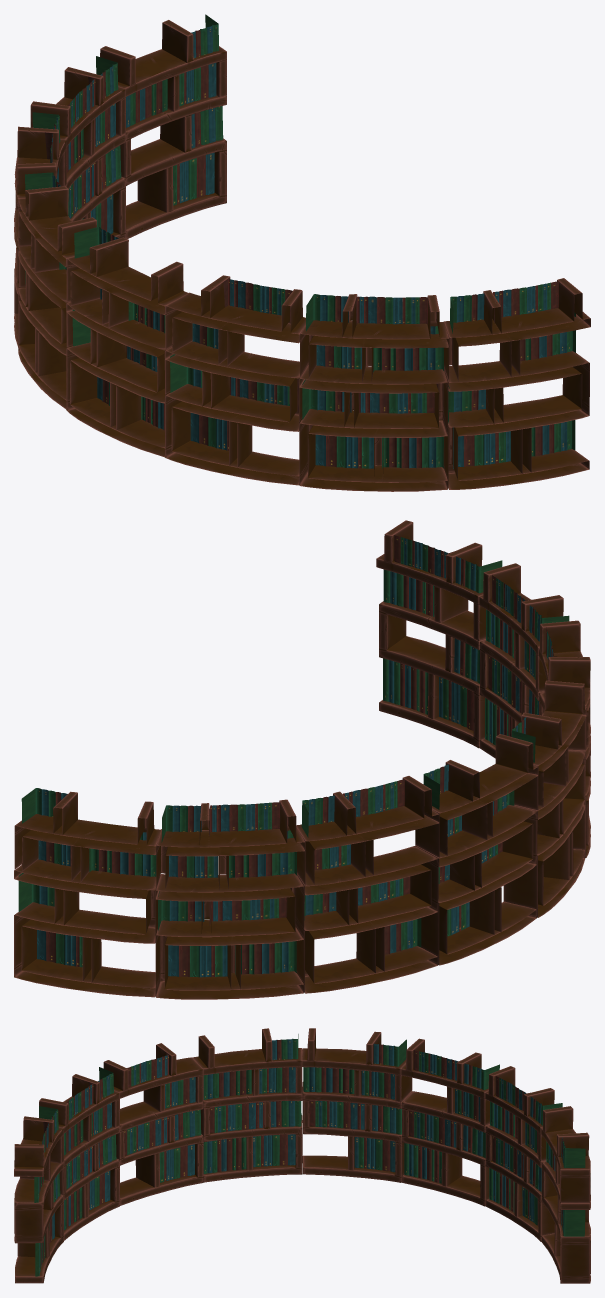
Rendered from SM_BookShelf_01_Full.fbx.
The picture shows the model from 3 angles, top to bottom: view 1: azimuth 30°, elevation 25°; view 2: azimuth 150°, elevation 25°; view 3: azimuth 270°, elevation 25°; orthographic projection. The views are drawn at different scales.
Parts seen in each view (by area): view 1: SM_BookShelf_01_Full_LOD0; view 2: SM_BookShelf_01_Full_LOD0; view 3: SM_BookShelf_01_Full_LOD0.
Part boxes in pixels (bbox=[...]): SM_BookShelf_01_Full_LOD0: bbox=[14, 14, 590, 491]; SM_BookShelf_01_Full_LOD0: bbox=[14, 520, 590, 999]; SM_BookShelf_01_Full_LOD0: bbox=[14, 1028, 590, 1283].
Size of what is drawn, in the model's own units: 6.23 by 3.17 by 12.36.
